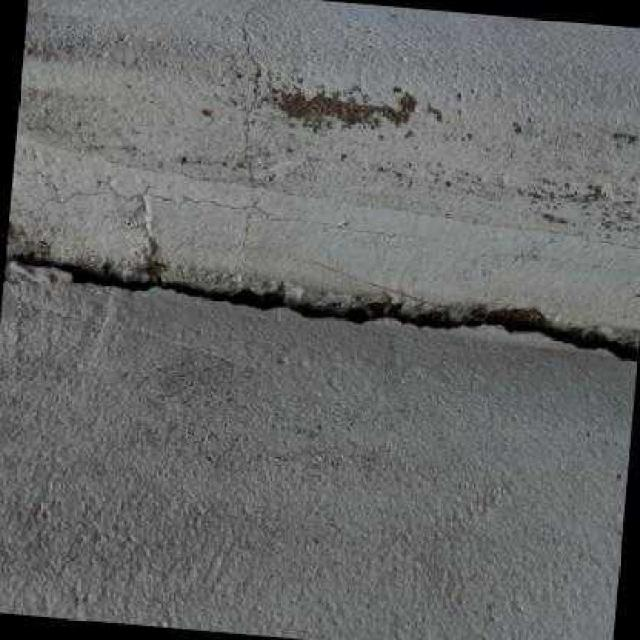D00: (9, 251, 639, 362)
